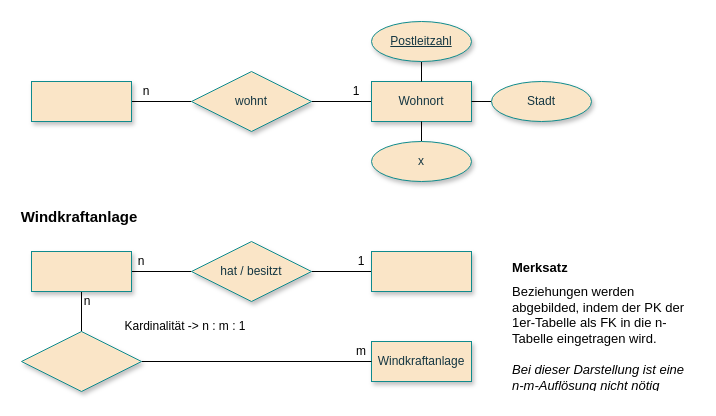
The diagram is 716 pixels wide and 416 high, and some of its shapes have lost their labels. Here are the shapes that lost their labels. From the top down, the centre of each, then its label:
At (x=82, y=102): "Person".
At (x=82, y=272): "Grundstück".
At (x=422, y=272): "Pächter".
At (x=82, y=362): "hat".
